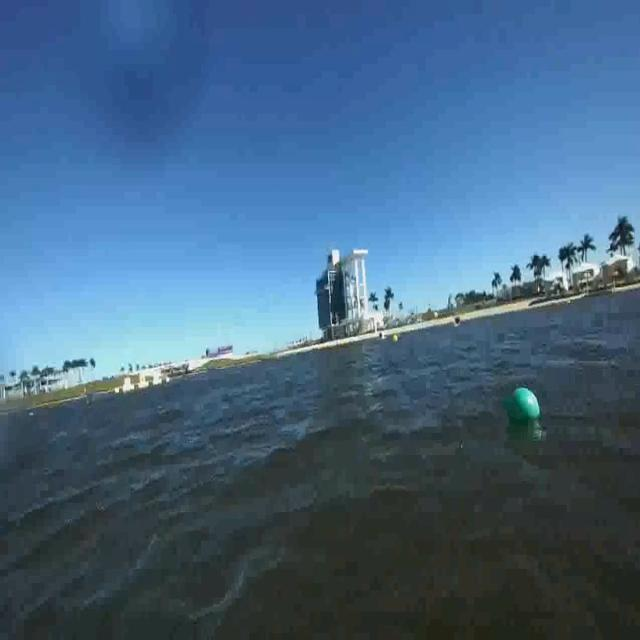green-buoy: (506, 388, 542, 426)
yellow-buoy: (392, 334, 398, 345)
